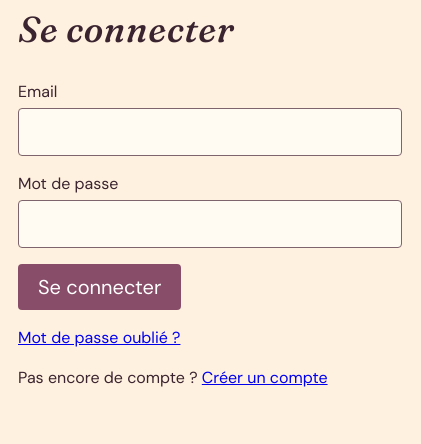
it: LoginPage › refuse un email mal formé sans déclencher de requête
Step 1. Type "not-an-email" into the field labelled "Email" → [210, 132], box [18, 108, 402, 156]
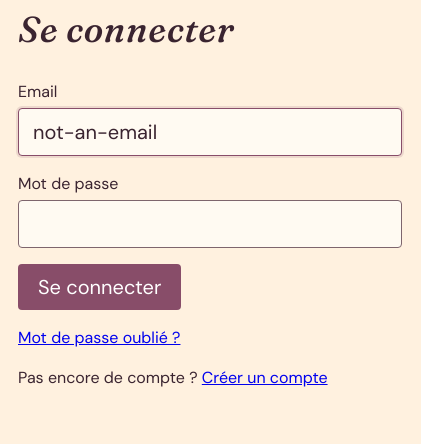
Step 2. Type "hunter2222" into the password field labelled "Mot de passe" → [210, 224], box [18, 200, 402, 248]
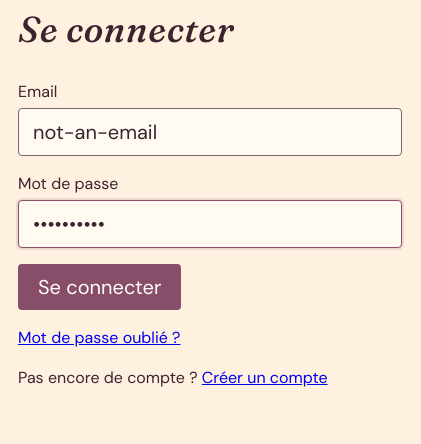
Step 3. Click the button "Se connecter" → [100, 287], box [18, 264, 181, 310]
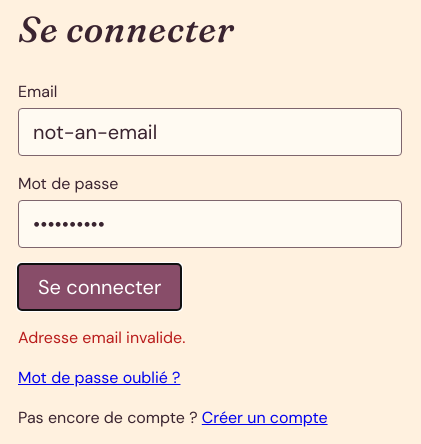
Expected: the text "Adresse email invalide." is shown, [18, 327, 185, 348]
